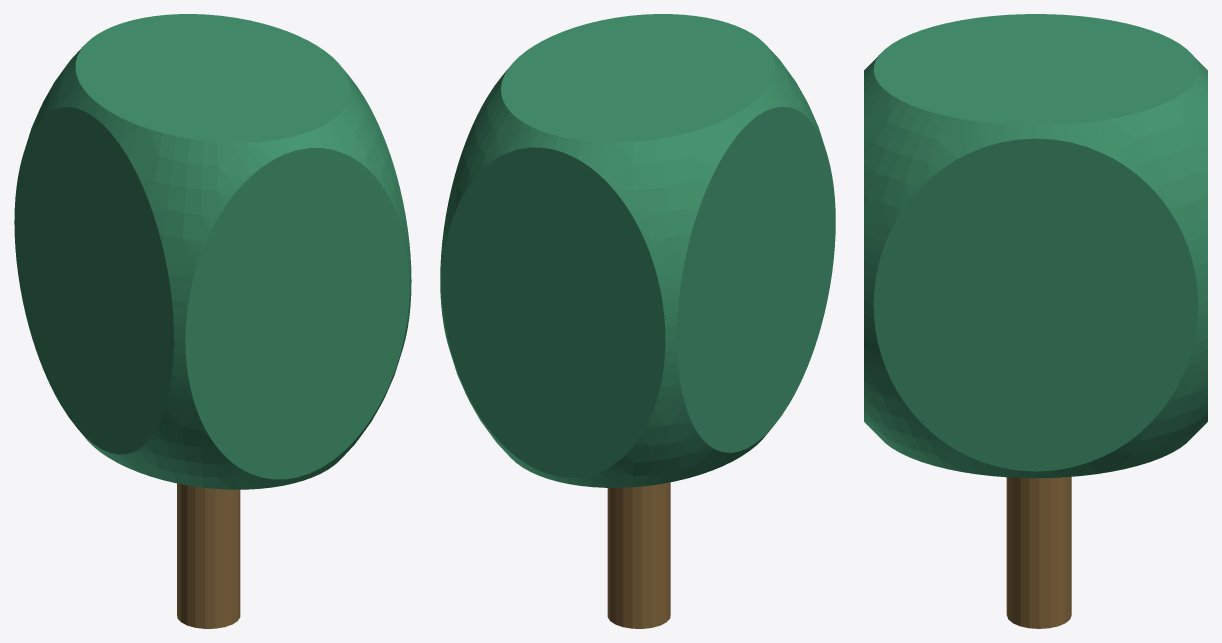
File: Robs_tree2.glb
3 renders of one model, left to right at view 1: azimuth 30°, elevation 25°; view 2: azimuth 150°, elevation 25°; view 3: azimuth 270°, elevation 25°, orthographic. The views are drawn at different scales.
Visible parts, largest first — view 1: Mesh_Mesh_head_geo.001_lambert2SG.001; view 2: Mesh_Mesh_head_geo.001_lambert2SG.001; view 3: Mesh_Mesh_head_geo.001_lambert2SG.001.
Boxes of the visible parts, x1=… form: Mesh_Mesh_head_geo.001_lambert2SG.001: x1=14, y1=14, x2=411, y2=628; Mesh_Mesh_head_geo.001_lambert2SG.001: x1=440, y1=14, x2=835, y2=628; Mesh_Mesh_head_geo.001_lambert2SG.001: x1=864, y1=14, x2=1207, y2=628.
Bounding box in the file's own units: 43 × 93 × 53.
